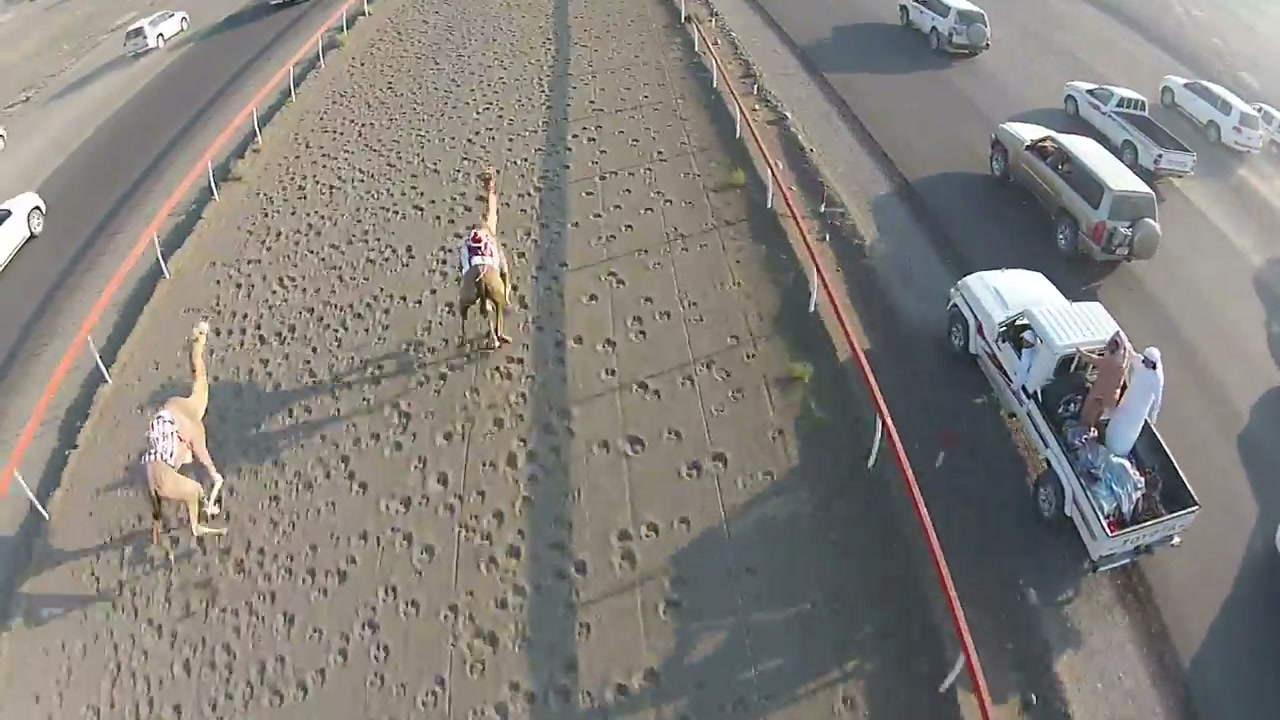animal_foot_print: (137, 76, 386, 702), (408, 97, 579, 668), (482, 51, 653, 622)
